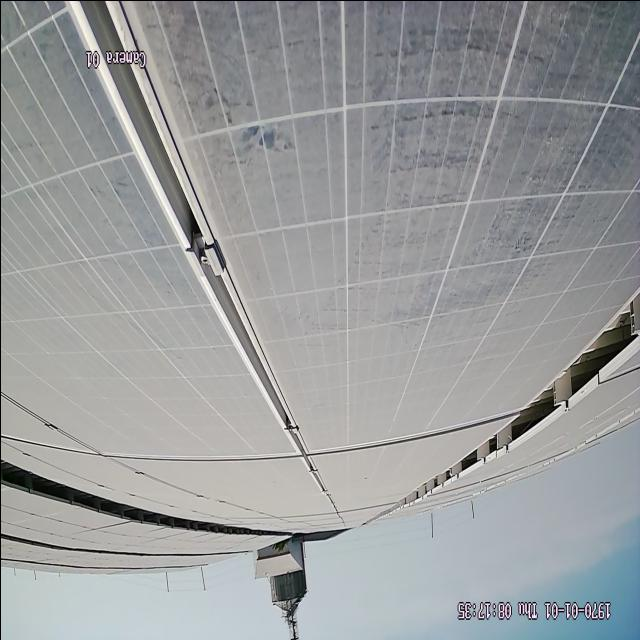interior panel: (67, 13, 300, 438), (309, 407, 497, 461), (43, 432, 276, 472), (294, 462, 347, 511)
outher panel: (399, 287, 632, 505), (12, 455, 232, 533)
